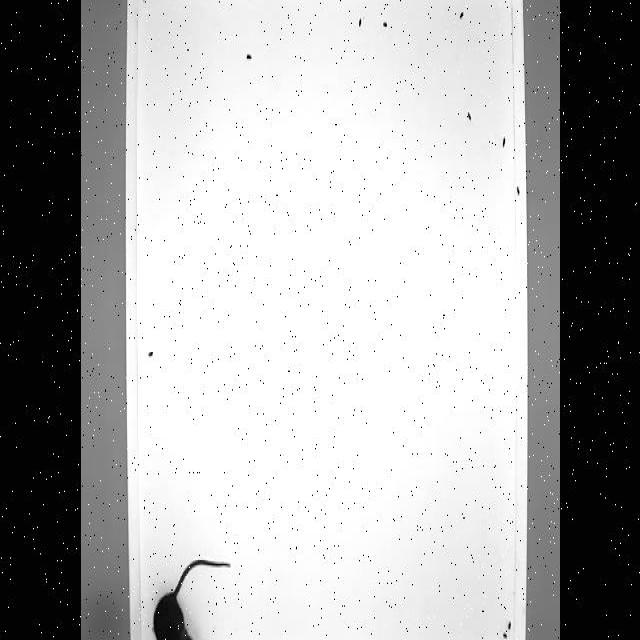rat: (149, 549, 235, 640)
